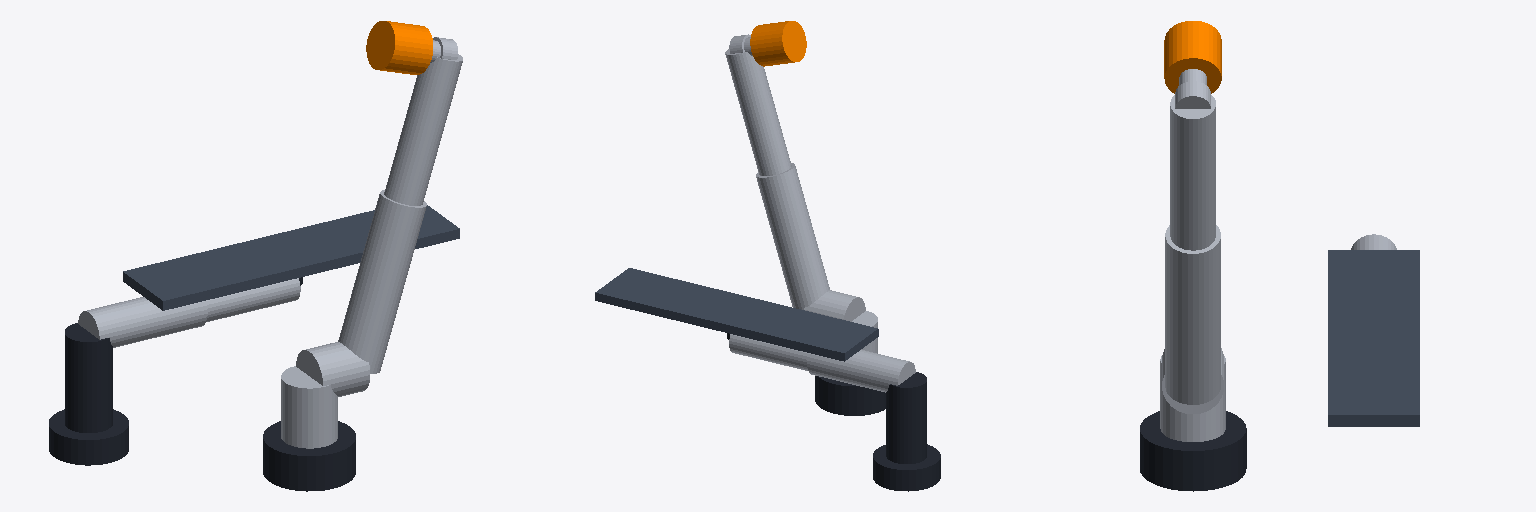
robot.urdf — cyberknife:
<?xml version="1.0"?><!-- GENERATO da urdf_gen.py: non modificare a mano.     Le quote derivano dalle costanti di kinematics.py. --><robot name="cyberknife">
  <material name="acciaio"><color rgba="0.72 0.74 0.78 1"/></material>
  <material name="arancio"><color rgba="1.0 0.54 0.0 1"/></material>
  <material name="scuro"><color rgba="0.18 0.20 0.24 1"/></material>
  <material name="ciano"><color rgba="0.0 0.90 1.0 1"/></material>
  <material name="lettino"><color rgba="0.30 0.34 0.40 1"/></material>
  <link name="base_link">
    <visual>
      <origin xyz="0 0 0.125" rpy="0 0 0"/>
      <geometry><cylinder length="0.25" radius="0.30"/></geometry>
      <material name="scuro"/>
    </visual>
  </link>
  <link name="link_1">
    <visual>
      <origin xyz="0 0 0.337500" rpy="0 0 0"/>
      <geometry><cylinder length="0.675000" radius="0.1840"/></geometry>
      <material name="acciaio"/>
    </visual>
    <visual>
      <origin xyz="0.175000 0 0.675000" rpy="0 1.5707963 0"/>
      <geometry><cylinder length="0.350000" radius="0.1748"/></geometry>
      <material name="acciaio"/>
    </visual>
  </link>
  <joint name="a1" type="revolute">
    <parent link="base_link"/>
    <child link="link_1"/>
    <origin xyz="0 0 0" rpy="0 0 0"/>
    <axis xyz="0 0 1"/>
    <limit lower="-3.228859" upper="3.228859" effort="1000.0" velocity="1.5"/>
  </joint>
  <link name="link_2">
    <visual>
      <origin xyz="0.575000 0 0" rpy="0 1.5707963 0"/>
      <geometry><cylinder length="1.150000" radius="0.156400"/></geometry>
      <material name="acciaio"/>
    </visual>
  </link>
  <joint name="a2" type="revolute">
    <parent link="link_1"/>
    <child link="link_2"/>
    <origin xyz="0.350000 0 0.675000" rpy="0 0 0"/>
    <axis xyz="0 1 0"/>
    <limit lower="-2.443461" upper="-0.087266" effort="1000.0" velocity="1.5"/>
  </joint>
  <link name="link_3">
    <visual>
      <origin xyz="0.500000 0 0" rpy="0 1.5707963 0"/>
      <geometry><cylinder length="1.000000" radius="0.128800"/></geometry>
      <material name="acciaio"/>
    </visual>
  </link>
  <joint name="a3" type="revolute">
    <parent link="link_2"/>
    <child link="link_3"/>
    <origin xyz="1.150000 0 0" rpy="0 0 0"/>
    <axis xyz="0 1 0"/>
    <limit lower="-2.094395" upper="2.705260" effort="1000.0" velocity="1.5"/>
  </joint>
  <link name="polso_base"/>
  <joint name="offset_gomito" type="fixed">
    <parent link="link_3"/>
    <child link="polso_base"/>
    <origin xyz="1.000000 0 -0.041000" rpy="0 0.040977 0"/>
  </joint>
  <link name="link_4">
    <visual>
      <origin xyz="0 0 0.060000" rpy="0 0 0"/>
      <geometry><cylinder length="0.120000" radius="0.099820"/></geometry>
      <material name="acciaio"/>
    </visual>
  </link>
  <joint name="a4" type="revolute">
    <parent link="polso_base"/>
    <child link="link_4"/>
    <origin xyz="0 0 0" rpy="0 0 0"/>
    <axis xyz="0 0 1"/>
    <limit lower="-6.108652" upper="6.108652" effort="1000.0" velocity="1.5"/>
  </joint>
  <link name="link_5">
    <visual>
      <origin xyz="0 0 0.060000" rpy="0 0 0"/>
      <geometry><cylinder length="0.120000" radius="0.088550"/></geometry>
      <material name="acciaio"/>
    </visual>
  </link>
  <joint name="a5" type="revolute">
    <parent link="link_4"/>
    <child link="link_5"/>
    <origin xyz="0 0 0" rpy="0 0 0"/>
    <axis xyz="0 1 0"/>
    <limit lower="-2.138028" upper="2.138028" effort="1000.0" velocity="1.5"/>
  </joint>
  <link name="link_6">
    <visual>
      <origin xyz="0 0 0.120000" rpy="0 0 0"/>
      <geometry><cylinder length="0.240000" radius="0.077280"/></geometry>
      <material name="acciaio"/>
    </visual>
  </link>
  <joint name="a6" type="revolute">
    <parent link="link_5"/>
    <child link="link_6"/>
    <origin xyz="0 0 0" rpy="0 0 0"/>
    <axis xyz="0 0 1"/>
    <limit lower="-6.108652" upper="6.108652" effort="1000.0" velocity="1.5"/>
  </joint>
  <link name="linac">
    <visual>
      <origin xyz="0 0 0.150000" rpy="0 0 0"/>
      <geometry><cylinder length="0.300000" radius="0.1610"/></geometry>
      <material name="arancio"/>
    </visual>
  </link>
  <joint name="flangia" type="fixed">
    <parent link="link_6"/>
    <child link="linac"/>
    <origin xyz="0 0 0.240000" rpy="0 0 0"/>
  </joint>
  <link name="sorgente"/>
  <joint name="punto_focale" type="fixed">
    <parent link="linac"/>
    <child link="sorgente"/>
    <origin xyz="0 0 0.300000" rpy="0 0 0"/>
  </joint>
  <link name="bev"/>
  <joint name="asse_fascio" type="fixed">
    <parent link="sorgente"/>
    <child link="bev"/>
    <origin xyz="0 0 0" rpy="0 -1.5707963 0"/>
  </joint>
  <joint name="ancoraggio_lettino" type="fixed">
    <parent link="base_link"/>
    <child link="couch_base"/>
    <origin xyz="-1.049750 1.014900 0.000137" rpy="0 0 0"/>
  </joint>
  <link name="couch_base">
    <visual>
      <origin xyz="0 0 0.09" rpy="0 0 0"/>
      <geometry><cylinder length="0.18" radius="0.26"/></geometry>
      <material name="scuro"/>
    </visual>
  </link>
  <link name="couch_column">
    <visual>
      <origin xyz="0 0 -0.35" rpy="0 0 0"/>
      <geometry><cylinder length="0.70" radius="0.1564"/></geometry>
      <material name="scuro"/>
    </visual>
  </link>
  <joint name="couch_lift" type="prismatic">
    <parent link="couch_base"/>
    <child link="couch_column"/>
    <origin xyz="0 0 0" rpy="0 0 0"/>
    <axis xyz="0 0 1"/>
    <limit lower="0.5500" upper="1.1000" effort="8000.0" velocity="0.2"/>
  </joint>
  <link name="couch_arm1">
    <visual>
      <origin xyz="0.400000 0 0" rpy="0 1.5707963 0"/>
      <geometry><cylinder length="0.800000" radius="0.138000"/></geometry>
      <material name="acciaio"/>
    </visual>
  </link>
  <joint name="couch_shoulder" type="revolute">
    <parent link="couch_column"/>
    <child link="couch_arm1"/>
    <origin xyz="0 0 0" rpy="0 0 0"/>
    <axis xyz="0 0 1"/>
    <limit lower="-2.967060" upper="2.967060" effort="1000.0" velocity="1.5"/>
  </joint>
  <link name="couch_arm2">
    <visual>
      <origin xyz="0.350000 0 0" rpy="0 1.5707963 0"/>
      <geometry><cylinder length="0.700000" radius="0.119600"/></geometry>
      <material name="acciaio"/>
    </visual>
  </link>
  <joint name="couch_elbow" type="revolute">
    <parent link="couch_arm1"/>
    <child link="couch_arm2"/>
    <origin xyz="0.800000 0 0" rpy="0 0 0"/>
    <axis xyz="0 0 1"/>
    <limit lower="-2.705260" upper="2.705260" effort="1000.0" velocity="1.5"/>
  </joint>
  <link name="couch_wrist1"/>
  <joint name="couch_roll" type="revolute">
    <parent link="couch_arm2"/>
    <child link="couch_wrist1"/>
    <origin xyz="0.700000 0 0" rpy="0 0 0"/>
    <axis xyz="1 0 0"/>
    <limit lower="-0.174533" upper="0.174533" effort="1000.0" velocity="1.5"/>
  </joint>
  <link name="couch_wrist2"/>
  <joint name="couch_pitch" type="revolute">
    <parent link="couch_wrist1"/>
    <child link="couch_wrist2"/>
    <origin xyz="0 0 0" rpy="0 0 0"/>
    <axis xyz="0 1 0"/>
    <limit lower="-0.349066" upper="0.349066" effort="1000.0" velocity="1.5"/>
  </joint>
  <link name="couch_top">
    <visual>
      <origin xyz="0 0 0" rpy="0 0 0"/>
      <geometry><box size="2.2000 0.5200 0.0700"/></geometry>
      <material name="lettino"/>
    </visual>
  </link>
  <joint name="couch_yaw" type="revolute">
    <parent link="couch_wrist2"/>
    <child link="couch_piatto"/>
    <origin xyz="0 0 0" rpy="0 0 0"/>
    <axis xyz="0 0 1"/>
    <limit lower="-3.141593" upper="3.141593" effort="1000.0" velocity="1.5"/>
  </joint>
  <link name="couch_piatto">
    <visual>
      <origin xyz="0 0 0.0975" rpy="0 0 0"/>
      <geometry><cylinder length="0.1950" radius="0.075"/></geometry>
      <material name="scuro"/>
    </visual>
  </link>
  <joint name="couch_sostegno" type="fixed">
    <parent link="couch_piatto"/>
    <child link="couch_top"/>
    <origin xyz="0 0 0.195000" rpy="0 0 0"/>
  </joint>
</robot>

--- Render facts (derived) ---
3 views of the same robot in one strip: view 1: azimuth 30°, elevation 25°; view 2: azimuth 150°, elevation 25°; view 3: azimuth 270°, elevation 25° (orthographic).
Model cyberknife with 19 links and 18 joints (11 revolute, 1 prismatic, 6 fixed), rooted at base_link, posed joints at zero except 2 at the middle of their limits (a2 = -1.27, couch_lift = 0.825).
Links seen in each view (by area): view 1: couch_top, link_2, link_1, link_3, couch_column, base_link, couch_arm1, couch_base, linac, couch_arm2; view 2: couch_top, link_2, link_3, couch_column, couch_arm1, couch_base, linac, base_link, link_1, couch_arm2; view 3: couch_top, link_2, link_3, base_link, linac, link_1, link_4, couch_arm1.
Link boxes in pixels (<box>): couch_top: <box>123,205,459,310</box>; link_2: <box>338,190,426,373</box>; link_1: <box>281,342,369,448</box>; link_3: <box>384,54,462,205</box>; couch_column: <box>65,323,112,432</box>; base_link: <box>263,421,355,491</box>; couch_arm1: <box>78,297,207,347</box>; couch_base: <box>49,409,128,465</box>; linac: <box>366,21,432,74</box>; couch_arm2: <box>206,278,300,321</box>; couch_top: <box>595,268,878,361</box>; link_2: <box>756,163,829,309</box>; link_3: <box>725,49,791,175</box>; couch_column: <box>886,372,926,463</box>; couch_arm1: <box>807,350,915,392</box>; couch_base: <box>873,444,940,491</box>; linac: <box>750,21,806,66</box>; base_link: <box>815,376,885,415</box>; link_1: <box>804,290,877,353</box>; couch_arm2: <box>729,334,808,370</box>; couch_top: <box>1328,250,1419,426</box>; link_2: <box>1165,225,1220,404</box>; link_3: <box>1170,95,1215,250</box>; base_link: <box>1140,411,1246,491</box>; linac: <box>1164,21,1221,93</box>; link_1: <box>1160,348,1225,441</box>; link_4: <box>1175,81,1210,108</box>; couch_arm1: <box>1351,234,1396,249</box>.
Size in the robot's own frame: 2.86 by 1.57 by 3.05 metres.
Geometry: primitives only (box / cylinder / sphere), no mesh files.
